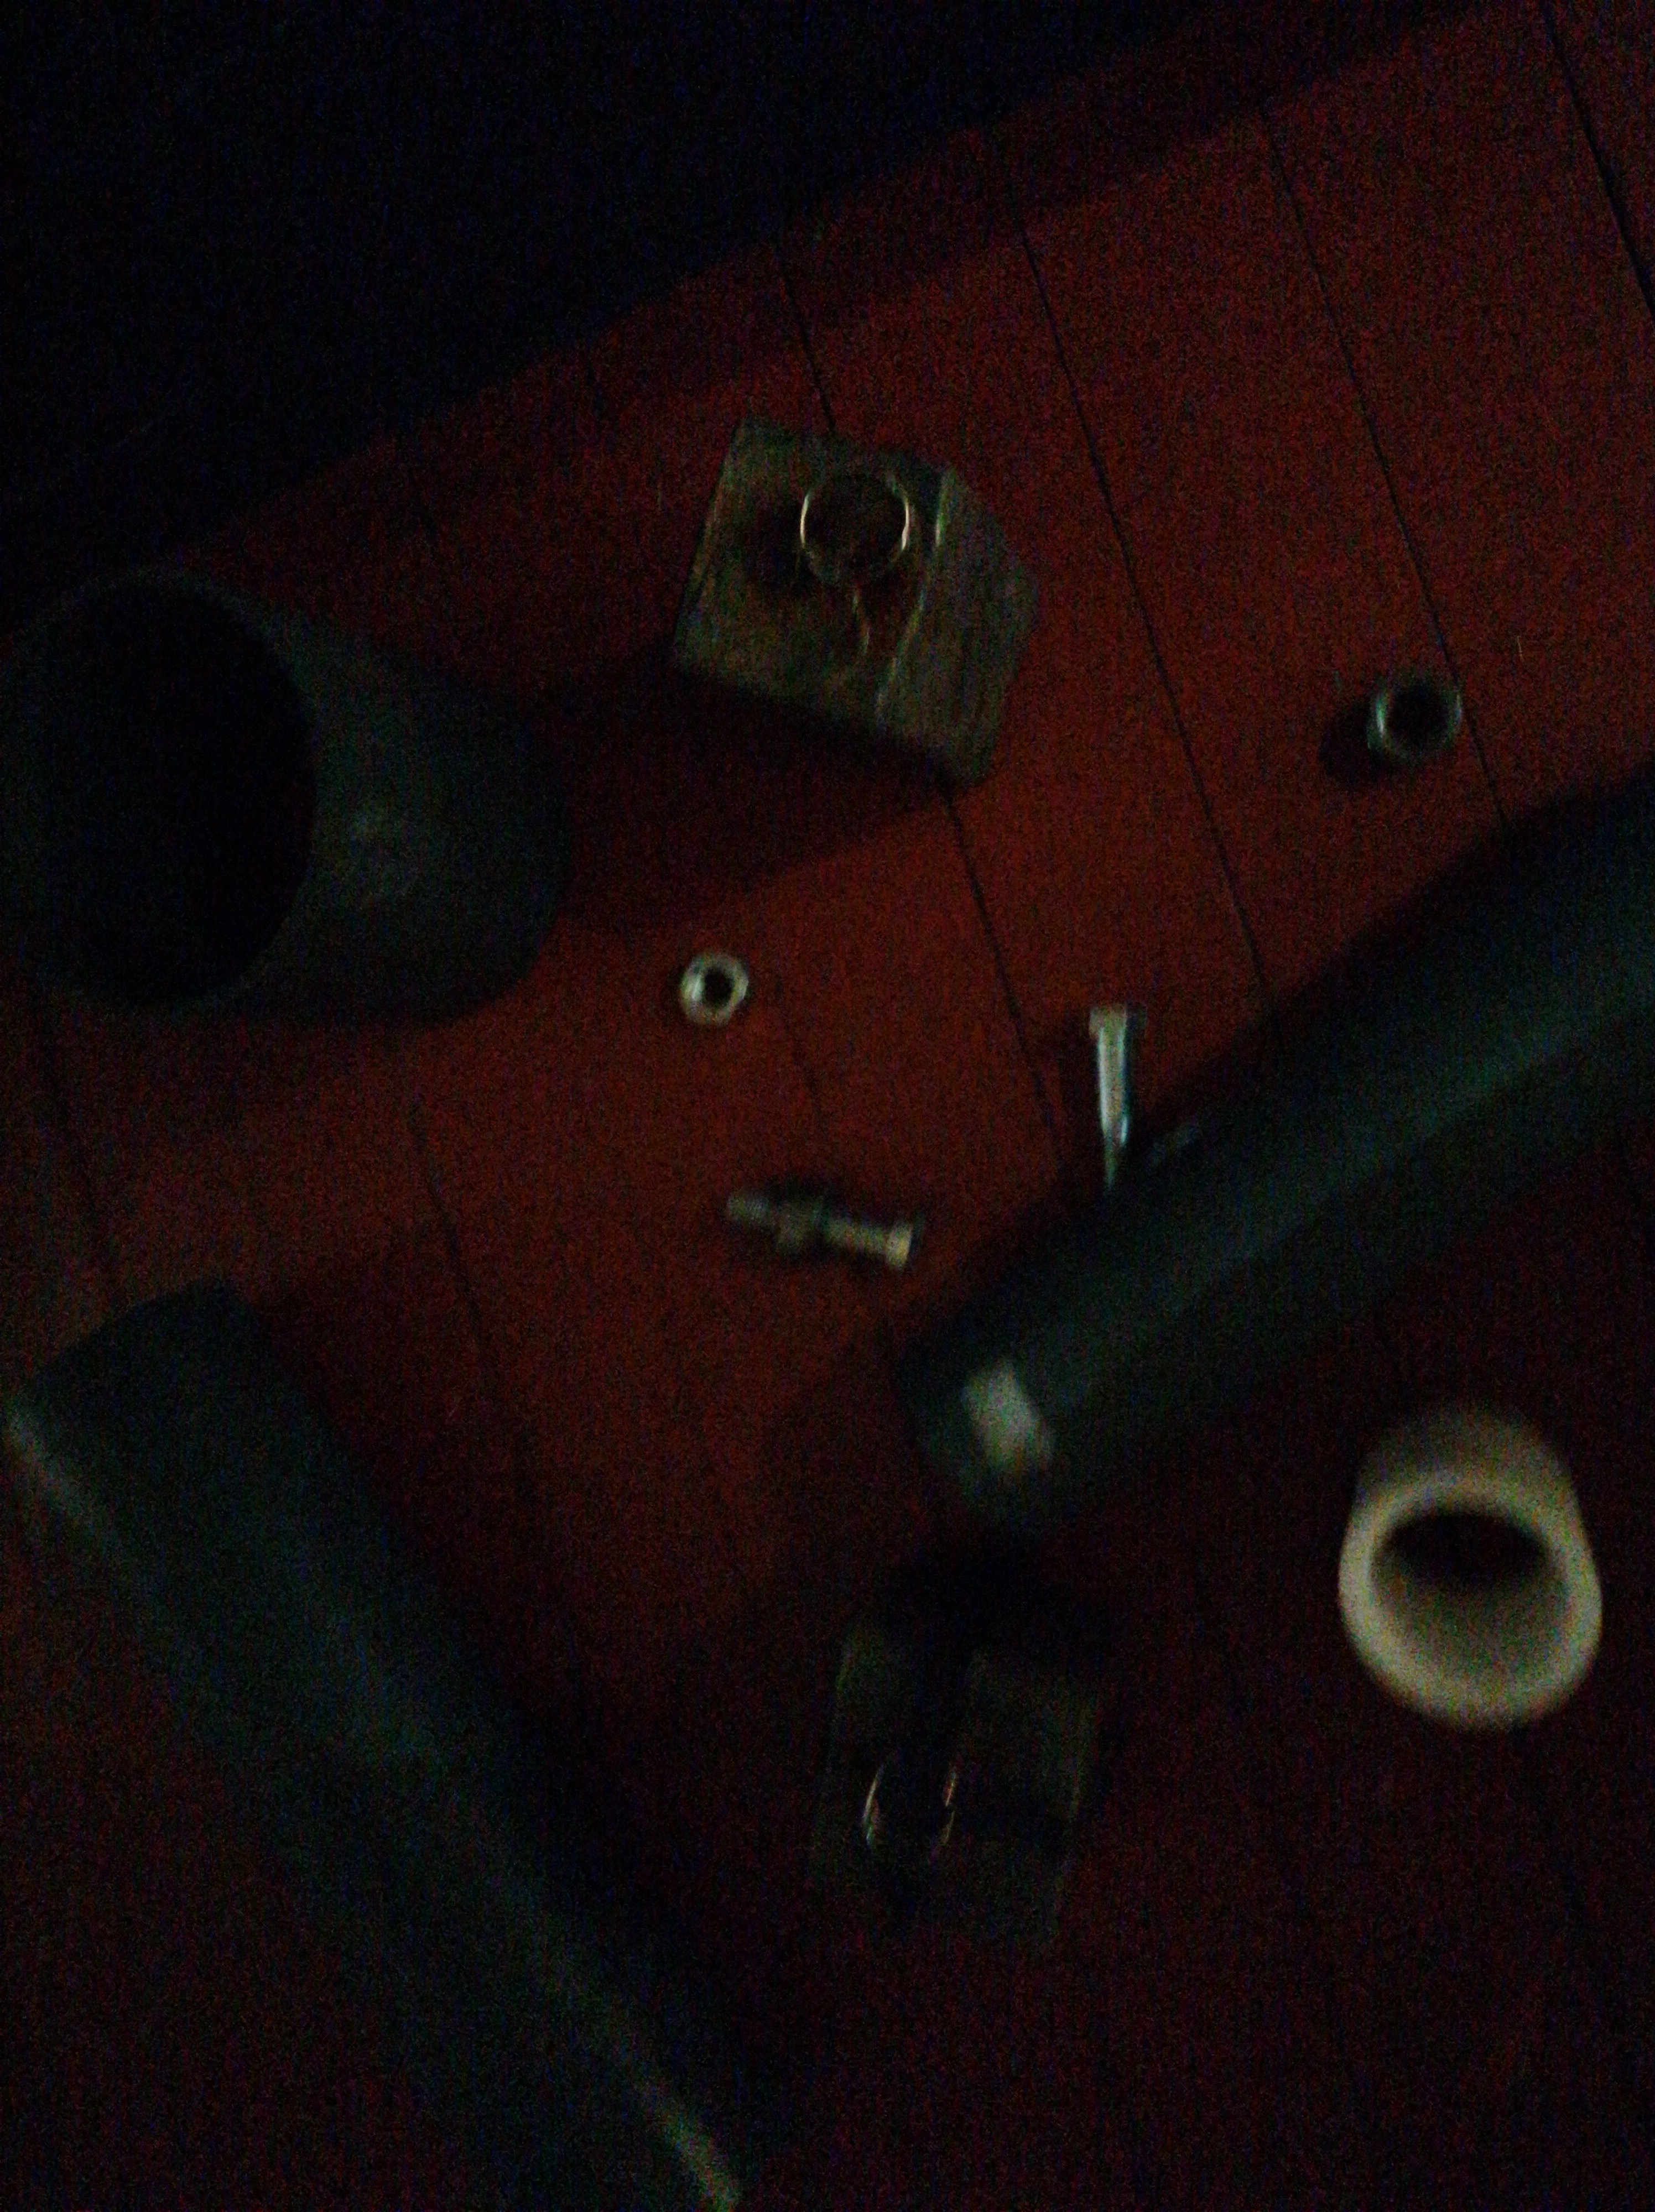bolt: (723, 1190, 925, 1275), (1085, 999, 1142, 1192)
led_block: (664, 415, 1040, 785), (808, 1571, 1113, 1953)
nut: (1359, 667, 1466, 772), (675, 952, 760, 1027), (772, 1175, 827, 1262)
pipe: (2, 1263, 796, 2212), (899, 766, 1655, 1524), (0, 570, 589, 1039), (1346, 1397, 1605, 1736)
